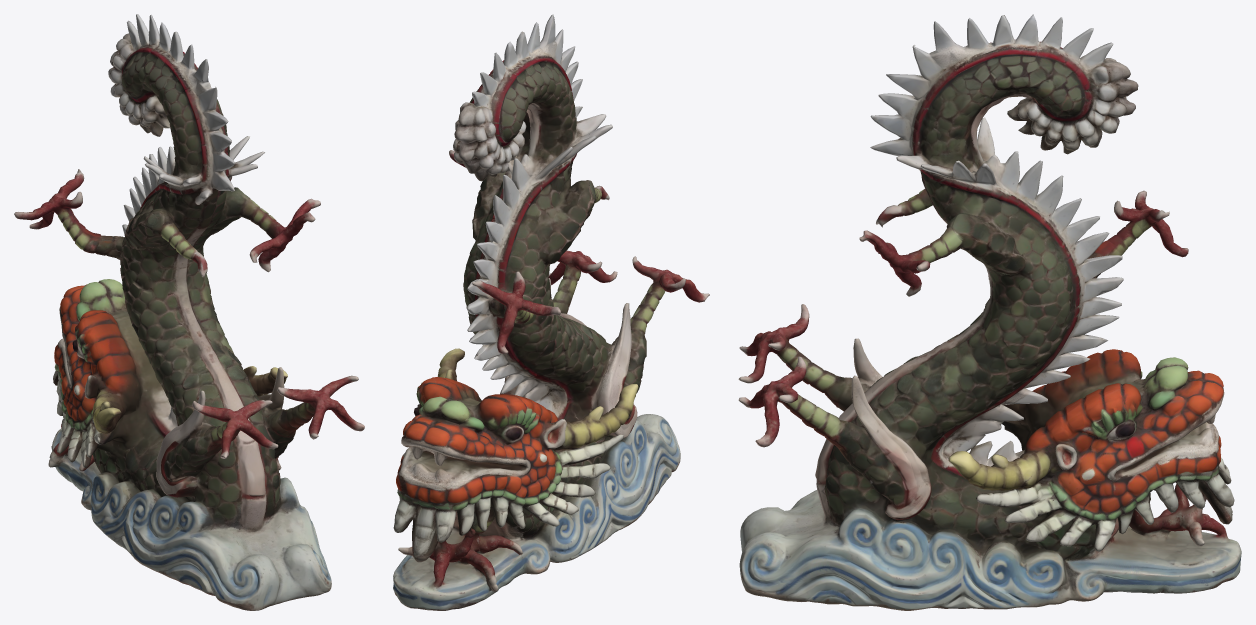
3 views of the same model, side by side, from view 1: azimuth 30°, elevation 25°; view 2: azimuth 150°, elevation 25°; view 3: azimuth 270°, elevation 25° (orthographic). The views are drawn at different scales.
Visible parts, largest first — view 1: tripo_node_abac8b02-0dd1-459a-9a92-ffea337cb000; view 2: tripo_node_abac8b02-0dd1-459a-9a92-ffea337cb000; view 3: tripo_node_abac8b02-0dd1-459a-9a92-ffea337cb000.
Boxes of the visible parts, x1=… form: tripo_node_abac8b02-0dd1-459a-9a92-ffea337cb000: x1=14, y1=14, x2=364, y2=610; tripo_node_abac8b02-0dd1-459a-9a92-ffea337cb000: x1=393, y1=14, x2=709, y2=610; tripo_node_abac8b02-0dd1-459a-9a92-ffea337cb000: x1=738, y1=14, x2=1241, y2=610.
Bounding box in the file's own units: 0.4324 × 0.9782 × 0.7996.
1 material, 1 textured.
